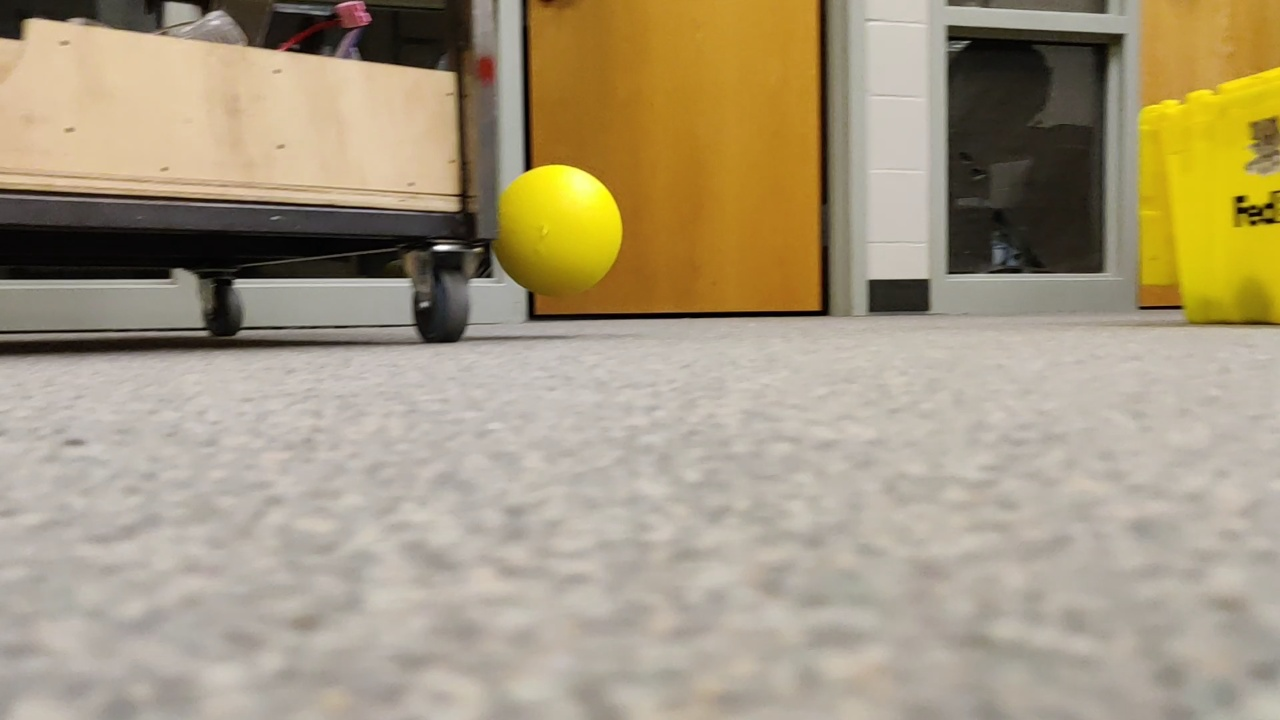Ball: (488, 162, 621, 299)
